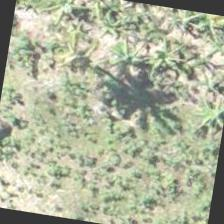Kelapa_Sawit: (10, 1, 113, 104)
